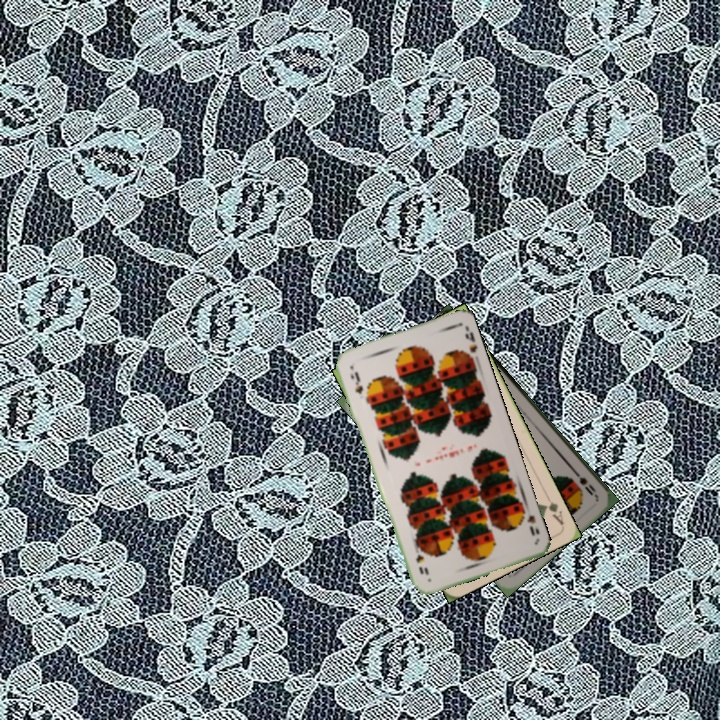GA: (539, 490, 567, 528)
S9: (515, 503, 538, 538), (346, 367, 365, 397)
SO: (568, 465, 600, 499)
